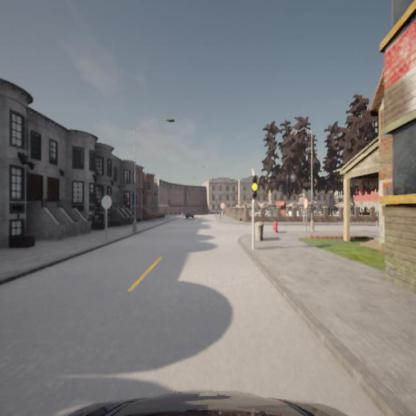traffic_light_orange: (250, 174, 258, 200)
